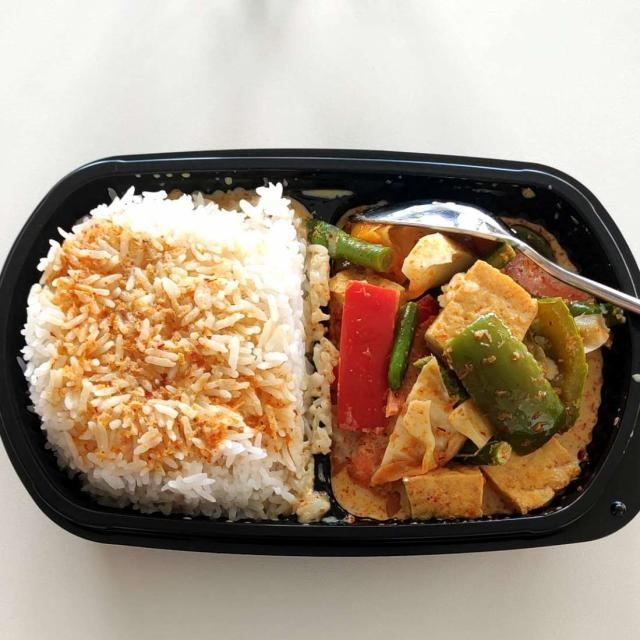mixed-vegetables: (316, 214, 601, 486)
rice: (38, 195, 318, 516)
tofu: (348, 221, 604, 525)
